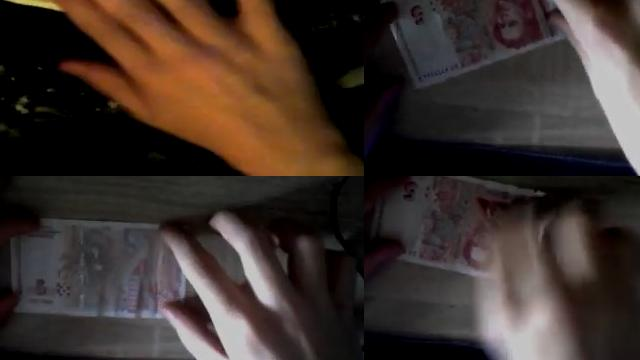5leva: (364, 176, 544, 274), (381, 0, 566, 89), (369, 176, 533, 274), (9, 218, 160, 318)
